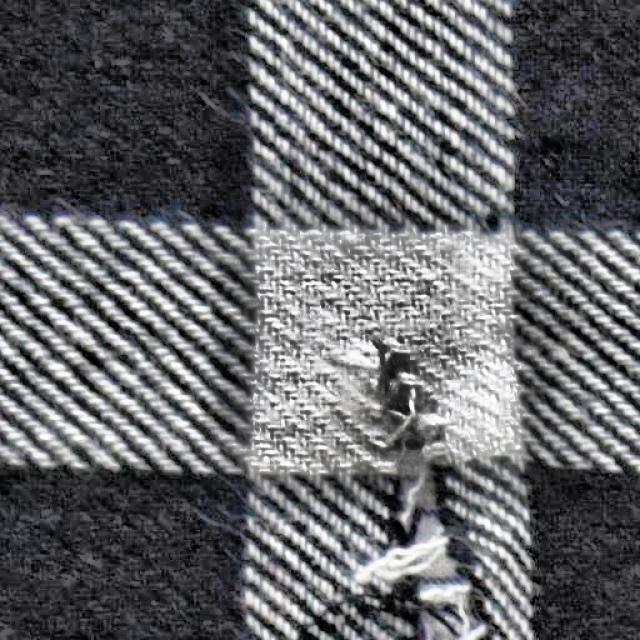gray stitch: (359, 341, 490, 639)
